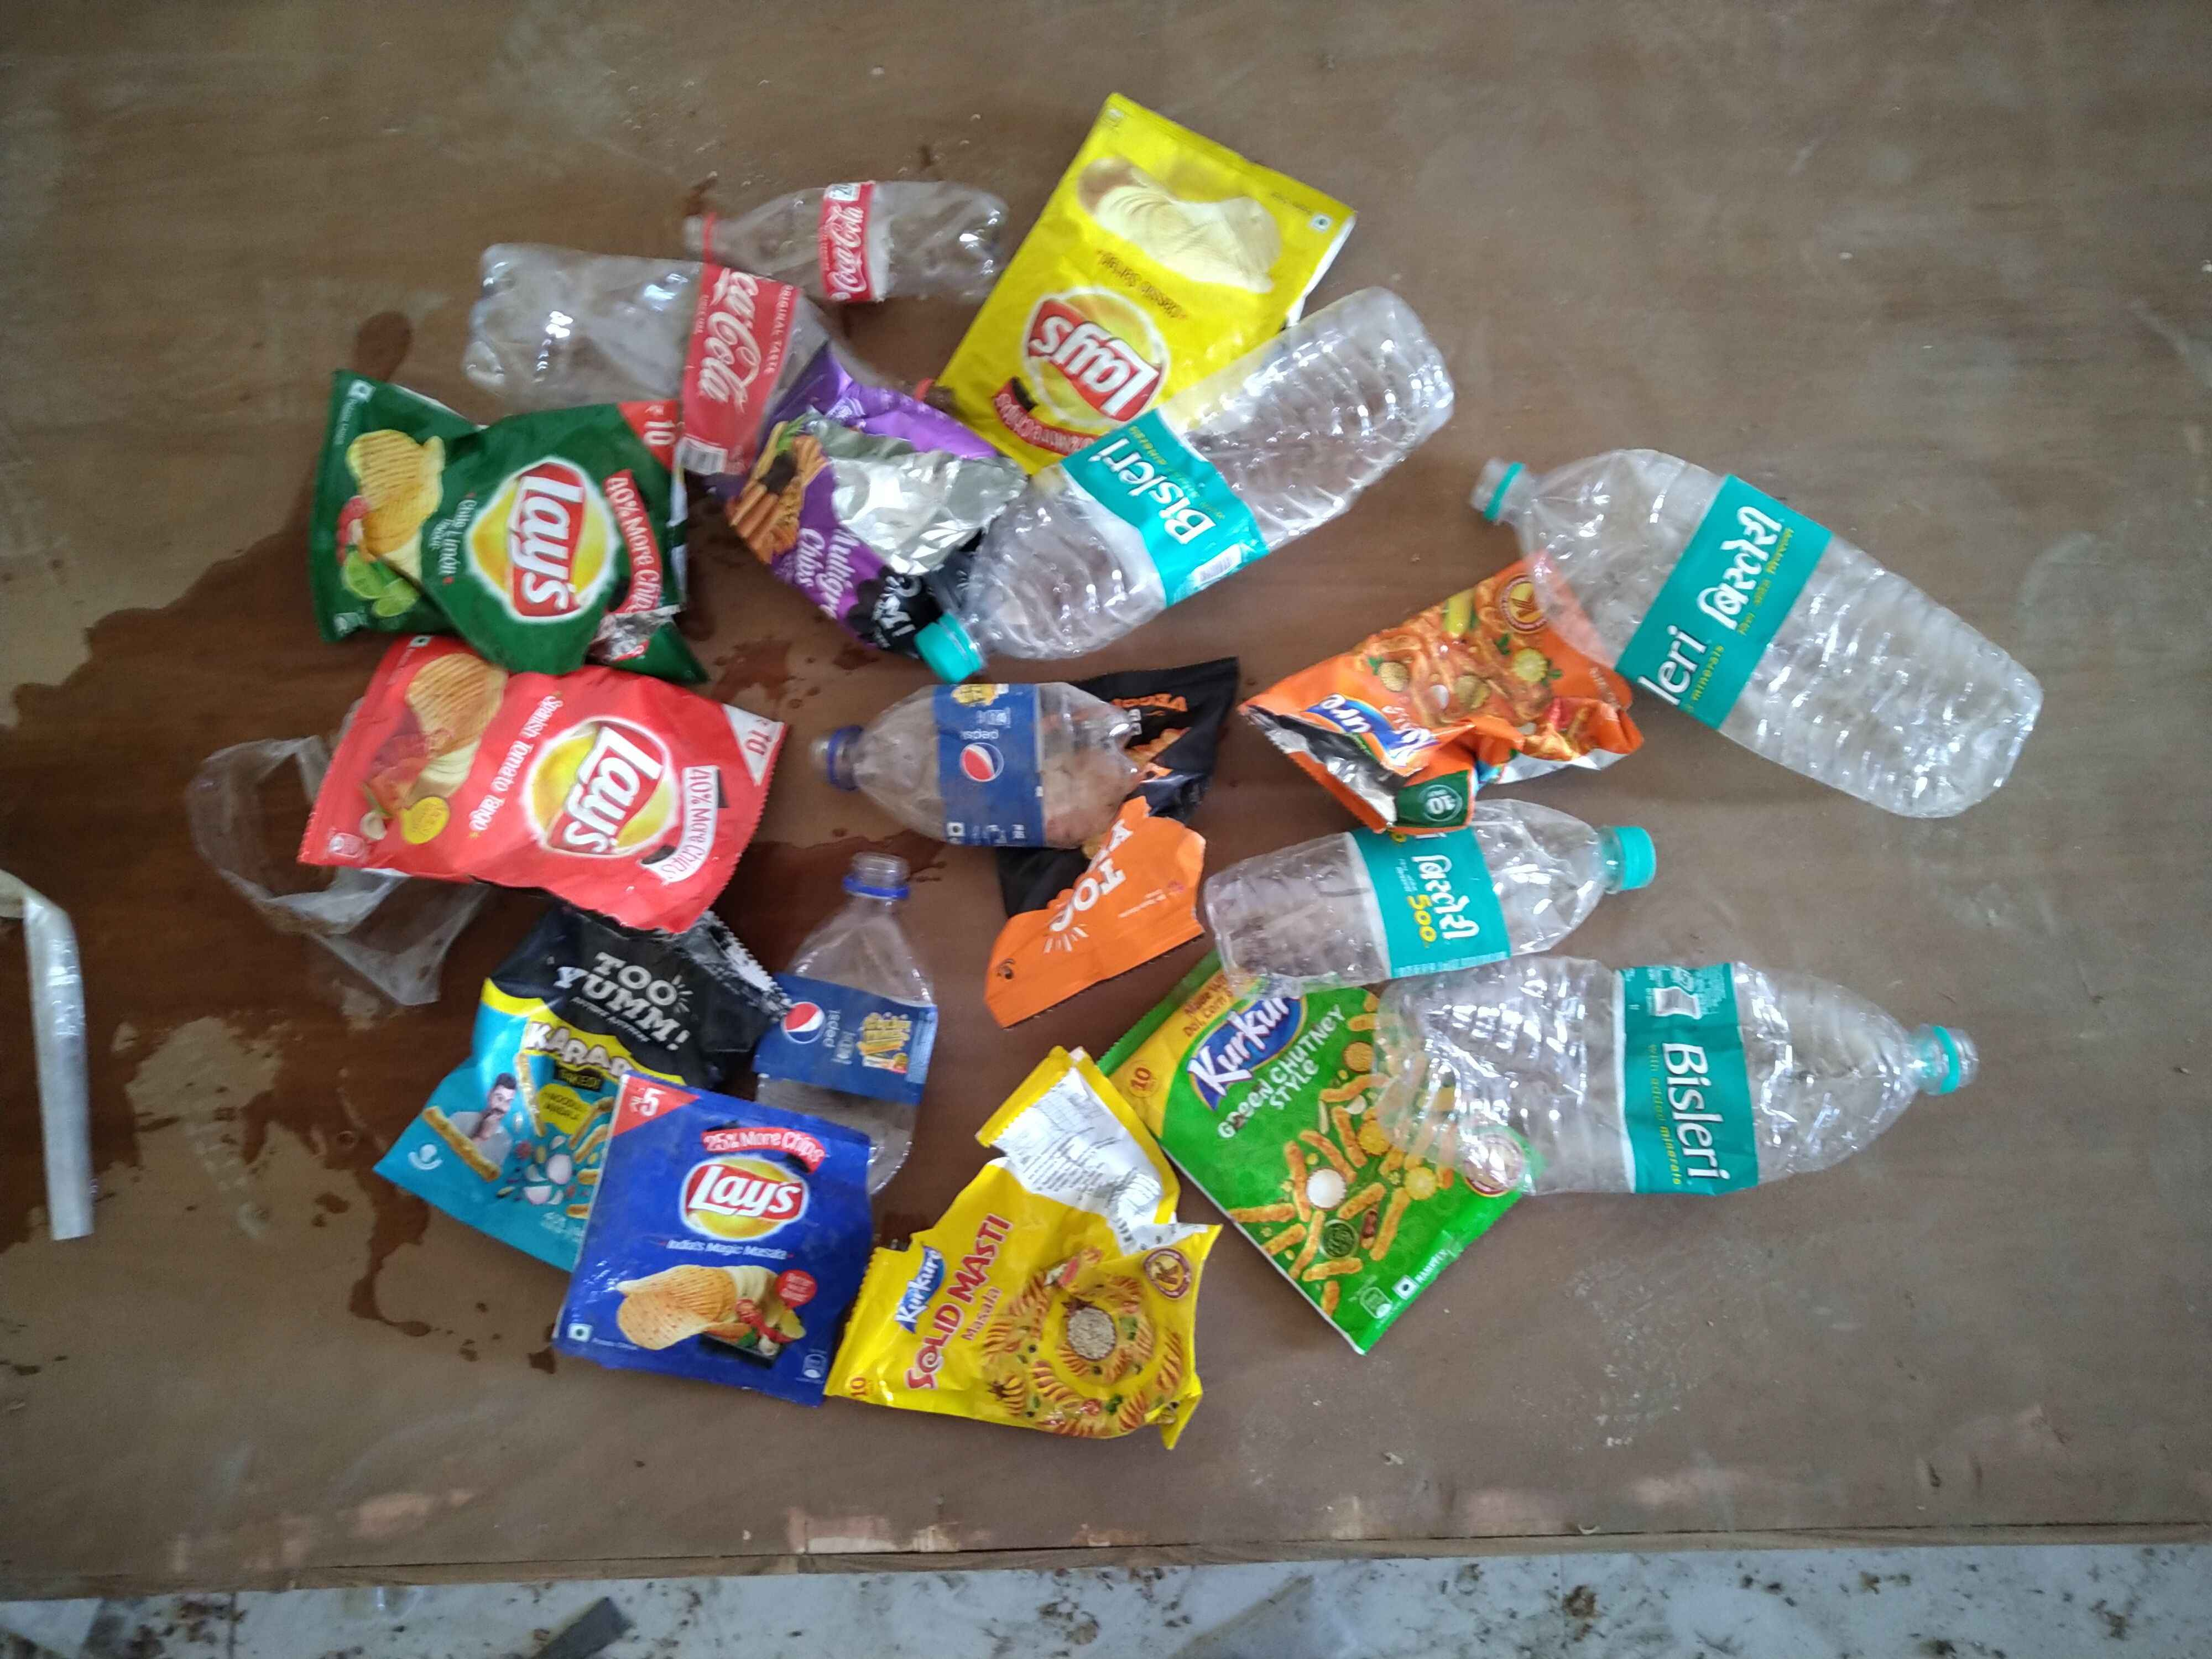Bisleri: (1623, 979, 1782, 1201), (1634, 504, 1794, 680), (1083, 420, 1249, 549), (1374, 833, 1505, 965)
Coca-Cola: (693, 260, 789, 441), (824, 181, 874, 300)
Lays: (519, 702, 714, 878), (467, 439, 615, 638), (998, 272, 1163, 430), (653, 1134, 836, 1277)
kurkure: (1170, 971, 1324, 1110), (1282, 680, 1440, 760), (878, 1230, 954, 1356)
pepsi: (763, 974, 914, 1082), (930, 687, 1035, 838)
tooyumm: (533, 934, 711, 1056), (1010, 828, 1169, 911), (880, 544, 920, 638)
